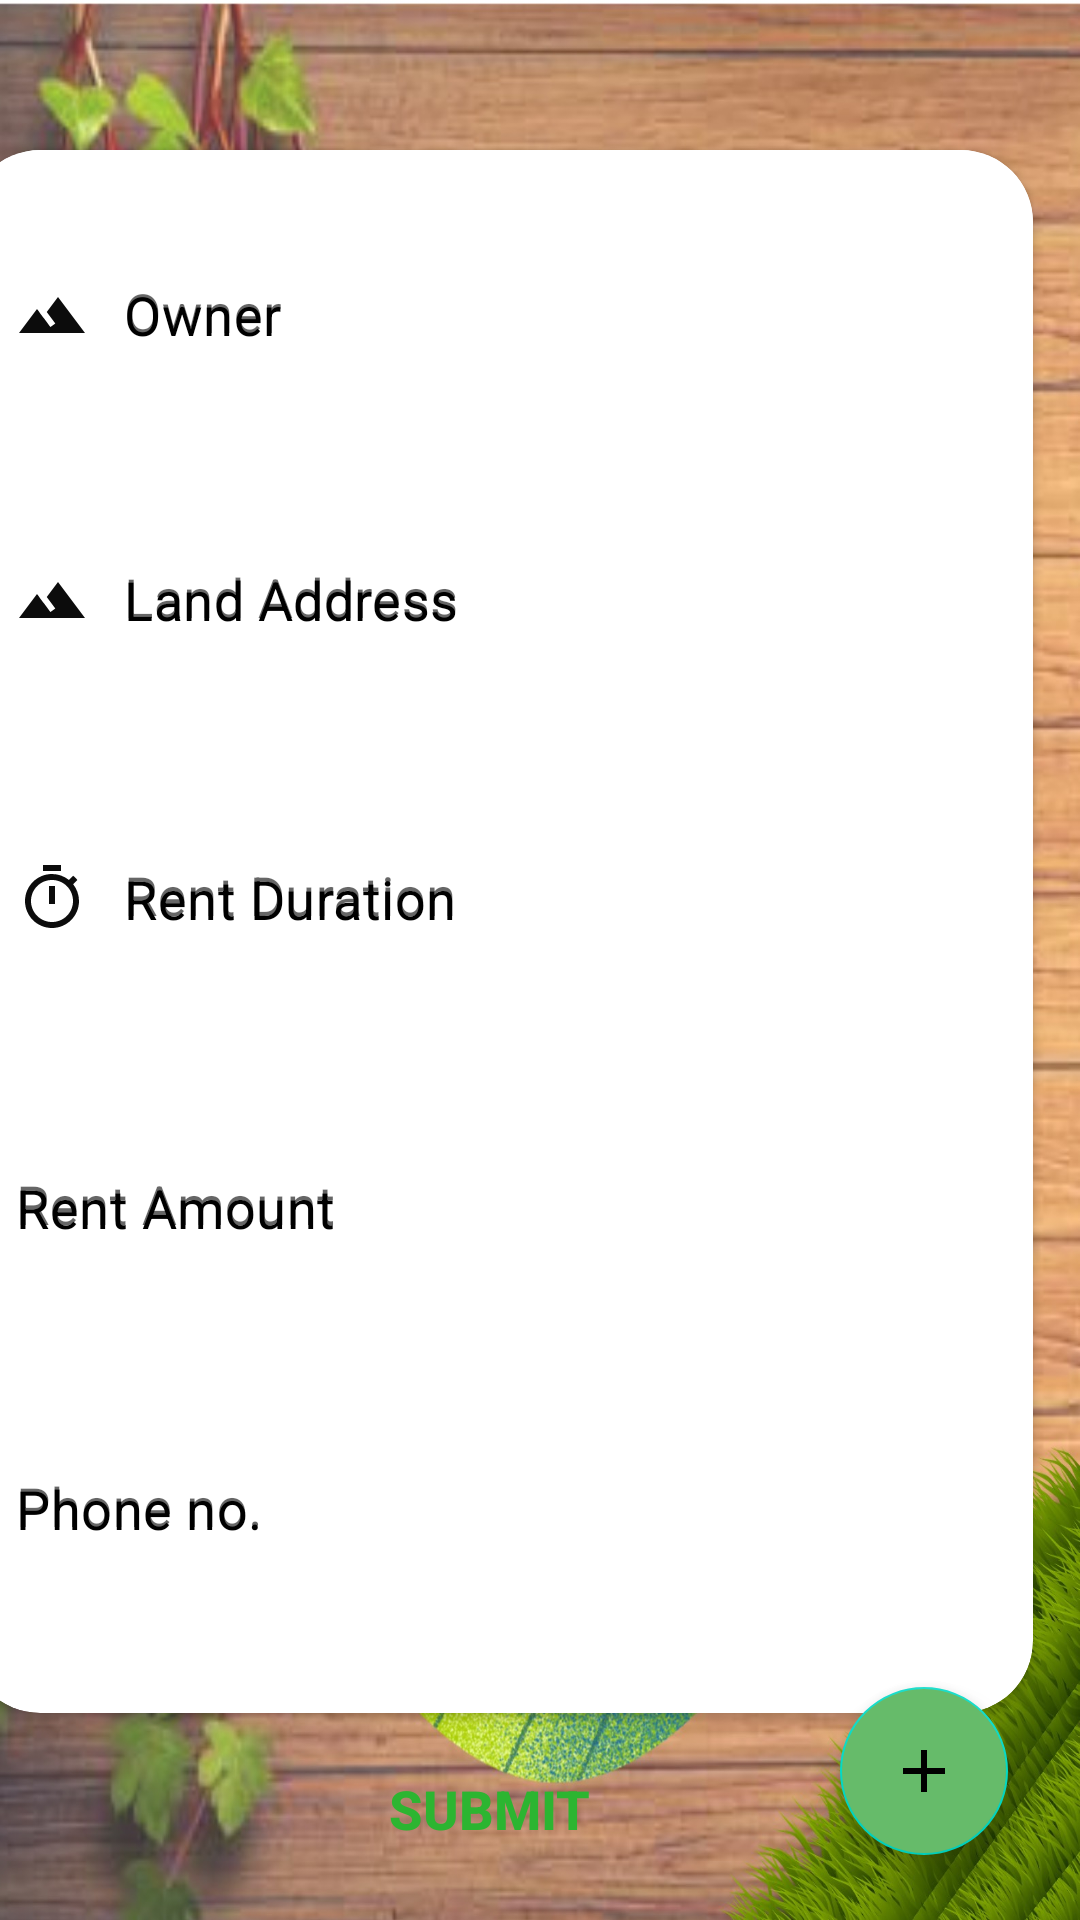

Icons on this 1080x1920 Android screen, each with the point to tap as (x,y):
add: (924,1771)
